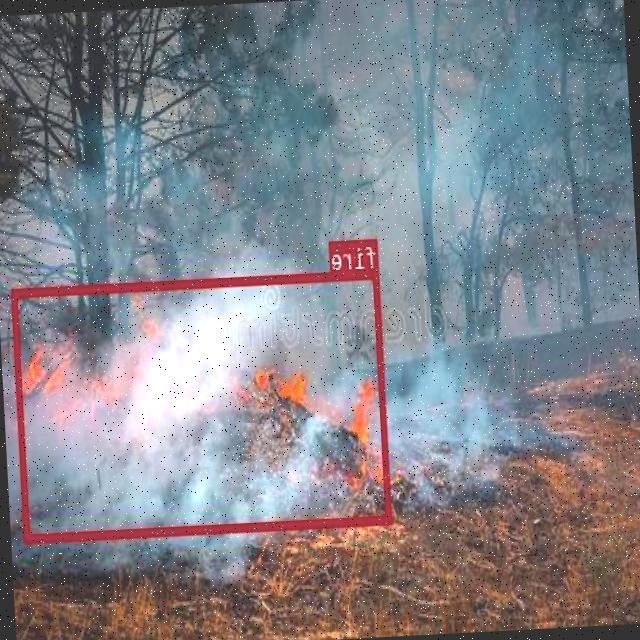fire: (12, 268, 392, 542)
